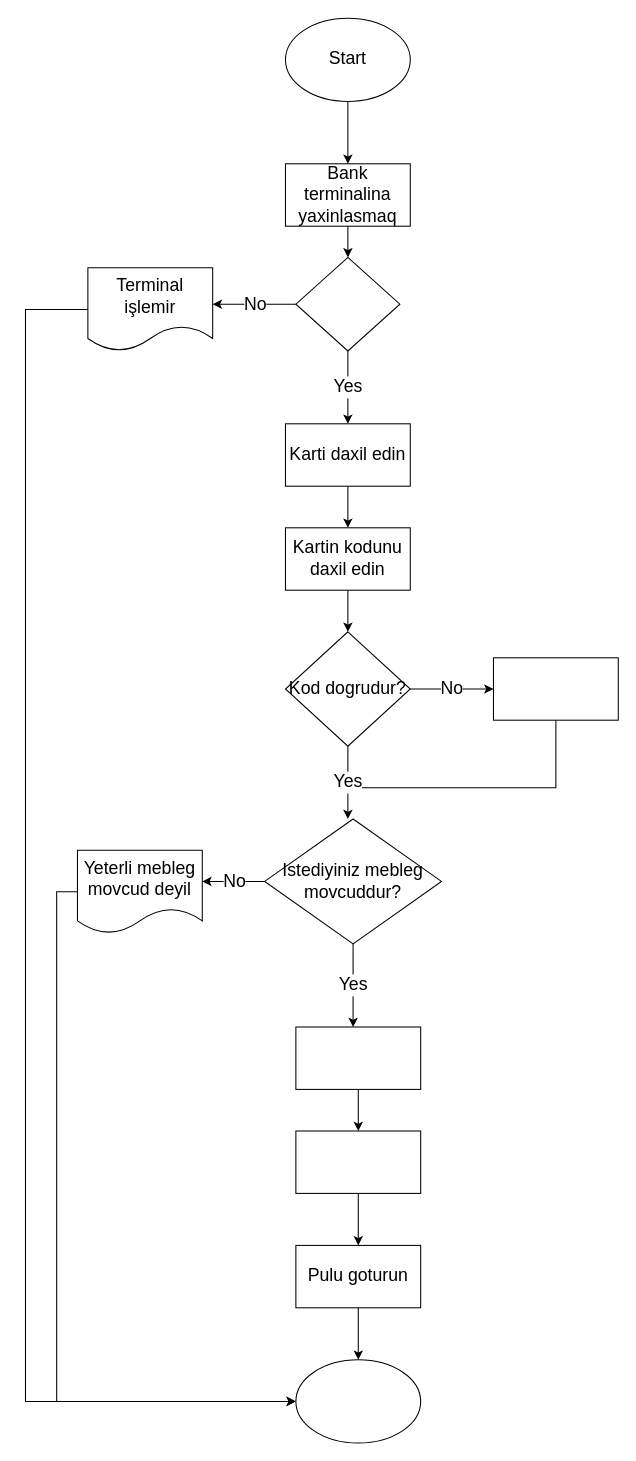
This 636x1461 diagram has some shape labels left out. Each missing label, with the box of its shape:
End: (295, 1359, 421, 1443)
Karti goturun: (295, 1130, 421, 1193)
Kodu tekrar daxil edin: (492, 657, 618, 720)
Meblegi daxil edin: (295, 1026, 421, 1089)
Terminal işleyirmi?: (295, 256, 400, 351)
